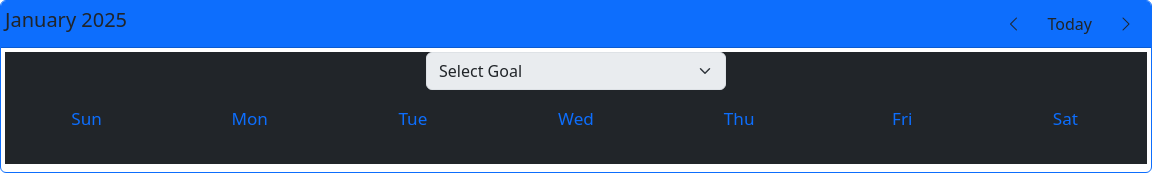
properly handles moving the date forwards and backwards
The image size is (1152, 190).
Expected: the heading "January 2025" is shown, 5,8 -> 127,32
Click the button with test id "CalendarNavigationDecrement": x=1014, y=24 993,5 -> 1035,43
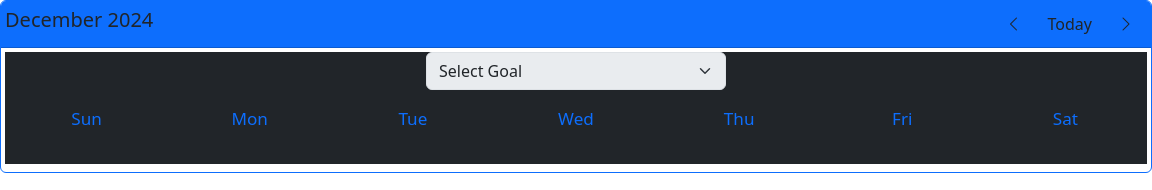
Expected: the heading "December 2024" is shown, 5,8 -> 153,32
Click the button with test id "CalendarNavigationIncrement": x=1126, y=24 1105,5 -> 1147,43
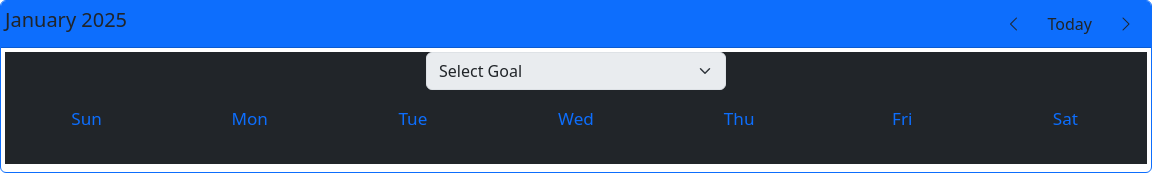
Expected: the heading "January 2025" is shown, 5,8 -> 127,32
Click the button with test id "CalendarNavigationIncrement": x=1126, y=24 1105,5 -> 1147,43
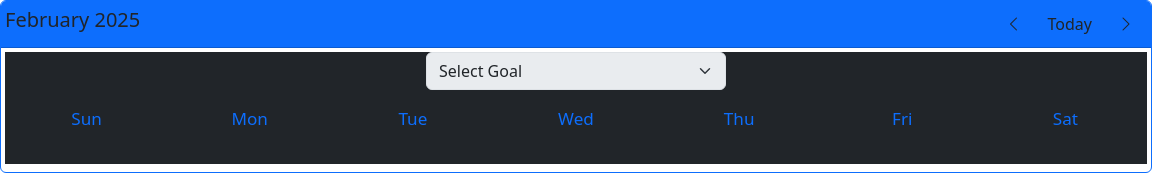
Expected: the heading "February 2025" is shown, 5,8 -> 140,32
Click the button with test id "CalendarNavigationReset": x=1070, y=24 1035,5 -> 1105,43
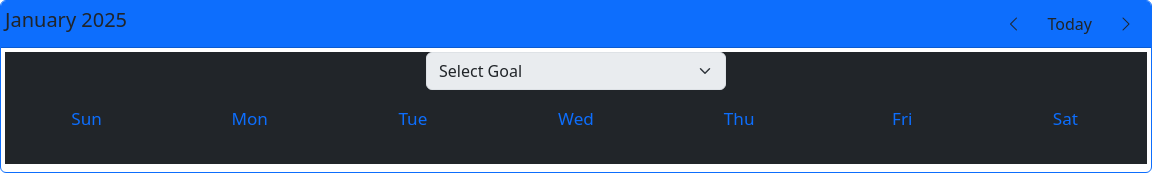
Expected: the heading "January 2025" is shown, 5,8 -> 127,32
